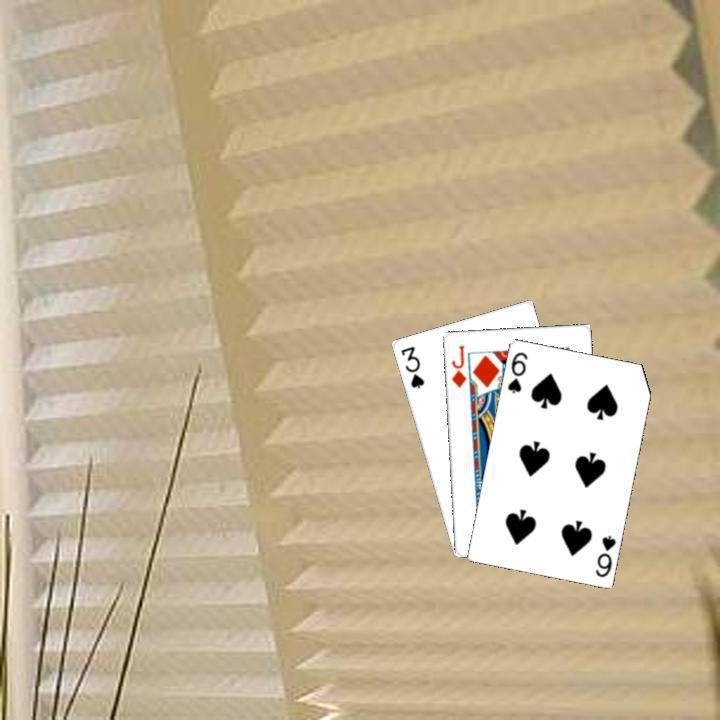3: (396, 342, 426, 390)
6: (591, 531, 618, 579), (503, 347, 529, 395)
J: (447, 341, 468, 390)
